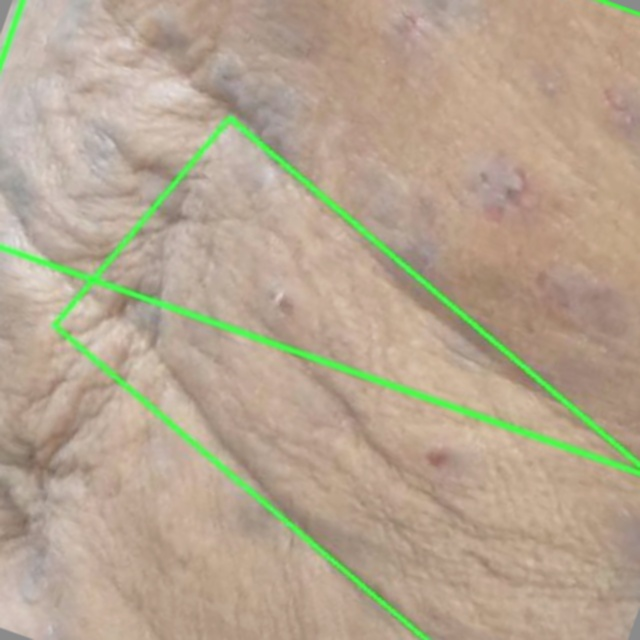Contact Dermatitis: (44, 118, 639, 639), (0, 0, 639, 473)
